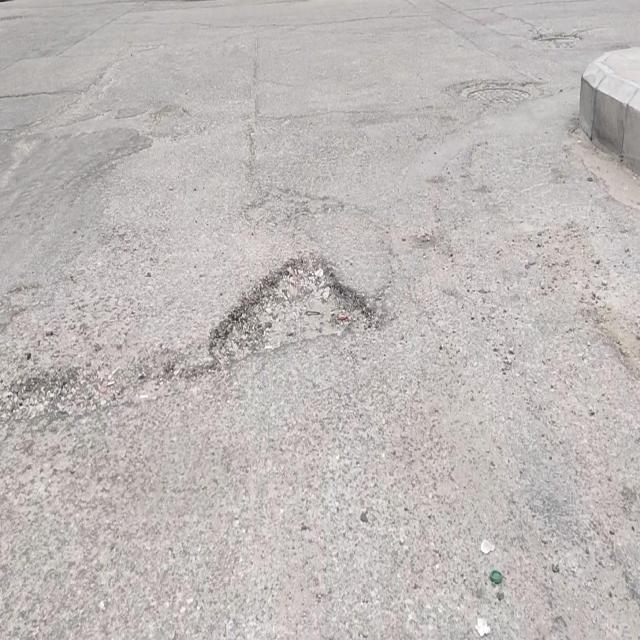Potholes: (207, 247, 382, 370)
